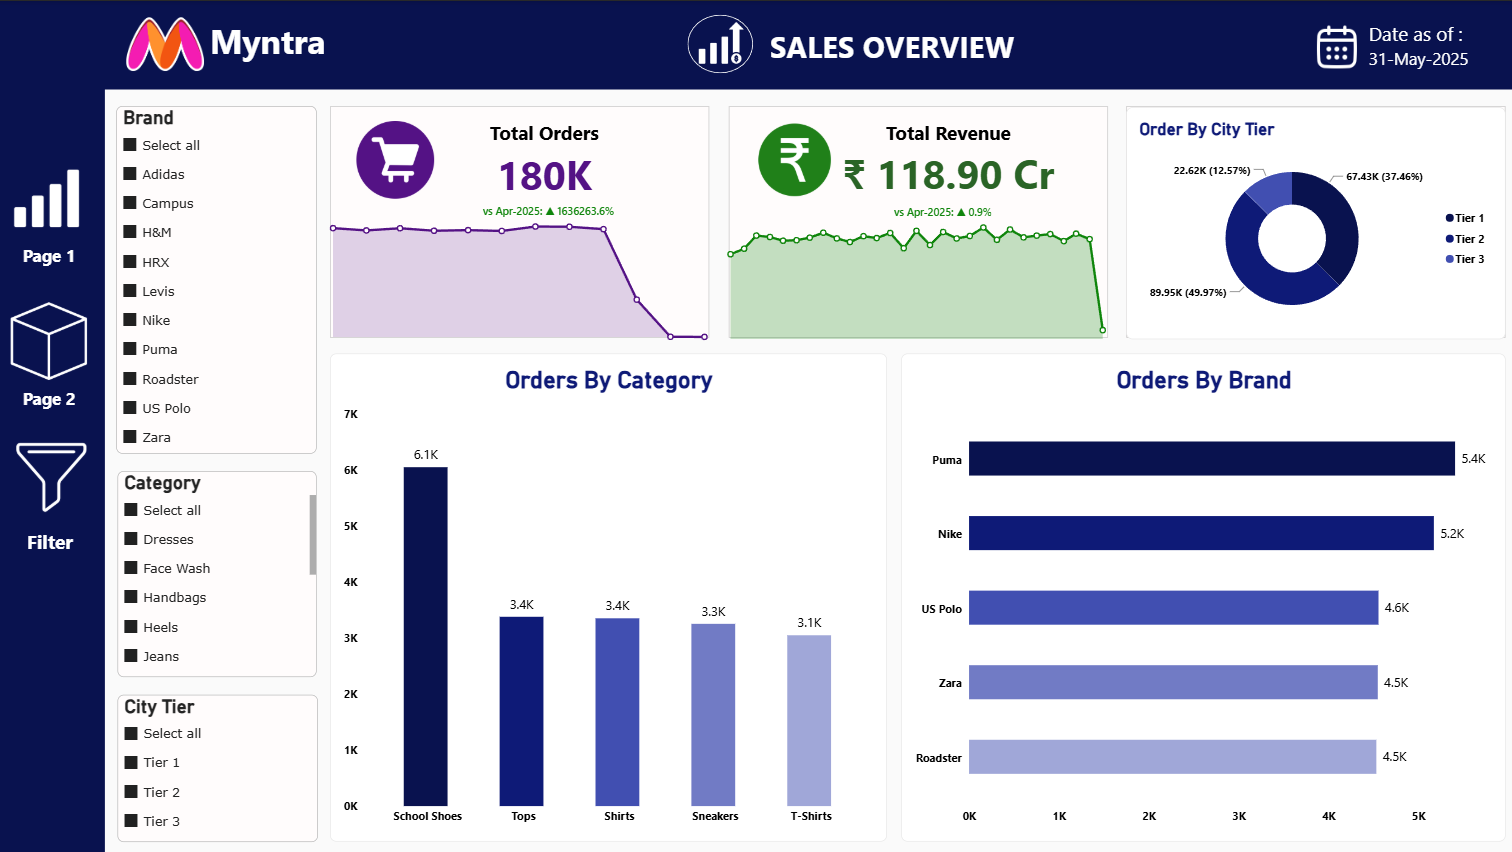

The dashboard page shown, as its layout file describes it:
{"tool":"powerbi","page":{"name":"Page 1","canvas":[1920,1080],"ordinal":0},"visuals":[{"type":"shape","box":[0,0,1920,112],"z":0},{"type":"image","box":[160,18,98.7,74.5],"z":0,"group":"g1"},{"type":"textbox","box":[179.4,21.4,320,61.2],"z":1000,"group":"g1"},{"type":"image","box":[16.7,381.1,86.7,123.3],"z":1000},{"type":"group","id":"g1","title":"Group 1","box":[160,18,338,74],"z":2000},{"type":"shape","box":[0,0,132.7,1080],"z":3000},{"type":"group","id":"g2","title":"Group 2","box":[883.7,21.2,422.3,64.3],"z":3000,"group":"g3"},{"type":"image","box":[883.7,21.2,56.6,64.3],"z":3000,"group":"g2"},{"type":"group","id":"g3","title":"Group 3","box":[870,18,436,74],"z":4000},{"type":"shape","box":[870,18,83,74],"z":4000,"group":"g3"},{"type":"textbox","box":[974,32.6,332,51.5],"z":4000,"group":"g2"},{"type":"slicer","fields":{"Values":["myntra_web_catalog.Brand_Name"]},"box":[146.7,133.3,253.3,440],"z":5000},{"type":"image","box":[1659.1,21.8,65,75],"z":6000,"group":"g5"},{"type":"slicer","fields":{"Values":["myntra_festive_orders.City_Tier"]},"box":[148.3,878.3,253.3,186.7],"z":6000},{"type":"slicer","fields":{"Values":["myntra_festive_orders.Category"]},"box":[148.2,595.5,251.8,260.9],"z":7000},{"type":"image","box":[16.2,187.8,86.7,123.3],"z":8000,"group":"g4"},{"type":"image","box":[13.3,381.7,98.3,98.3],"z":8000},{"type":"image","box":[16.8,557.9,95.2,88.7],"z":9000},{"type":"pageNavigator","box":[12.5,300.4,99.6,222.9],"z":10000,"group":"g4"},{"type":"textbox","box":[14.5,668.2,98,50],"z":10000},{"type":"shape","box":[1425,133.3,480,293.3],"z":11000},{"type":"shape","box":[921.7,133.3,480,293.3],"z":12000},{"type":"shape","box":[418.3,133.3,480,293.3],"z":13000},{"type":"cardVisual","fields":{"Data":["myntra_orders_master.Total Orders KPI"]},"box":[565.7,122.9,245,156.7],"z":14000},{"type":"textbox","box":[1731.4,24.2,188,80.2],"z":14001,"group":"g6"},{"type":"image","box":[435,151.7,130,98.3],"z":15000},{"type":"areaChart","fields":{"Category":["myntra_festive_orders.Order_Date.Variation.Date Hierarchy.Year","myntra_festive_orders.Order_Date.Variation.Date Hierarchy.Quarter"],"Y":["CountNonNull(myntra_orders_master.Order_ID)"]},"box":[395.5,258.5,522,188],"z":16000},{"type":"cardVisual","fields":{"Data":["myntra_festive_orders.Orders Growth Label"]},"box":[594.3,220,275,90],"z":17000},{"type":"image","box":[941.4,151.4,128.6,98.6],"z":18000},{"type":"cardVisual","fields":{"Data":["myntra_festive_orders.Total Revenue Display"]},"box":[960,74.3,480,255.7],"z":19000},{"type":"cardVisual","fields":{"Data":["myntra_festive_orders.Revenue Growth Label"]},"box":[1115.7,241.4,191.4,48.6],"z":20000},{"type":"areaChart","fields":{"Category":["myntra_festive_orders.Delivered_Date.Variation.Date Hierarchy.Year","myntra_festive_orders.Delivered_Date.Variation.Date Hierarchy.Month"],"Y":["Sum(myntra_festive_orders.Net_Revenue)"]},"box":[898.5,240,523,203],"z":21000},{"type":"donutChart","title":"Order By City Tier","fields":{"Series":["myntra_orders_master.City_Tier"],"Y":["CountNonNull(myntra_orders_master.Order_ID)"]},"box":[1425,133.8,480,293.8],"z":22000},{"type":"columnChart","title":"Orders By Category","fields":{"Category":["myntra_festive_orders.Category"],"Y":["CountNonNull(myntra_festive_orders.Order_ID)"]},"box":[418.3,446.7,705,617.5],"z":23000},{"type":"barChart","title":"Orders By Brand","fields":{"Category":["myntra_festive_orders.Brand_Name"],"Y":["CountNonNull(myntra_festive_orders.Order_ID)"]},"box":[1140,446.7,765,617.5],"z":24000},{"type":"group","id":"g4","title":"Group 4","box":[12.5,187.8,99.6,335.5],"z":25000},{"type":"group","id":"g5","title":"Group 5","box":[1659.1,21.8,260.3,82.6],"z":26000},{"type":"group","id":"g6","title":"Group 4","box":[1731.4,24.2,188,80.2],"z":26001,"group":"g5"}]}

Visuals, with their boxes in screenshot pixels (x1, y1, x2, y2), scaled from the page's 1920x1080 canvas onto the 1512x852 screenshot:
shape: region(0, 0, 1511, 88)
image: region(126, 14, 204, 73)
textbox: region(141, 17, 393, 65)
image: region(13, 301, 81, 398)
"Group 1" group: region(126, 14, 392, 73)
shape: region(0, 0, 105, 851)
"Group 2" group: region(696, 17, 1028, 67)
image: region(696, 17, 740, 67)
"Group 3" group: region(685, 14, 1028, 73)
shape: region(685, 14, 750, 73)
textbox: region(767, 26, 1028, 66)
slicer - myntra_web_catalog.Brand_Name: region(116, 105, 315, 452)
image: region(1307, 17, 1358, 76)
slicer - myntra_festive_orders.City_Tier: region(117, 693, 316, 840)
slicer - myntra_festive_orders.Category: region(117, 470, 315, 676)
image: region(13, 148, 81, 245)
image: region(10, 301, 88, 379)
image: region(13, 440, 88, 510)
pageNavigator: region(10, 237, 88, 413)
textbox: region(11, 527, 89, 567)
shape: region(1122, 105, 1500, 337)
shape: region(726, 105, 1104, 337)
shape: region(329, 105, 707, 337)
cardVisual - myntra_orders_master.Total Orders KPI: region(445, 97, 638, 221)
textbox: region(1363, 19, 1511, 82)
image: region(343, 120, 445, 197)
areaChart - myntra_festive_orders.Order_Date.Variation.Date Hierarchy.Year x myntra_festive_orders.Order_Date.Variation.Date Hierarchy.Quarter: region(311, 204, 723, 352)
cardVisual - myntra_festive_orders.Orders Growth Label: region(468, 174, 685, 245)
image: region(741, 119, 843, 197)
cardVisual - myntra_festive_orders.Total Revenue Display: region(756, 59, 1134, 260)
cardVisual - myntra_festive_orders.Revenue Growth Label: region(879, 190, 1029, 229)
areaChart - myntra_festive_orders.Delivered_Date.Variation.Date Hierarchy.Year x myntra_festive_orders.Delivered_Date.Variation.Date Hierarchy.Month: region(708, 189, 1119, 349)
"Order By City Tier" donutChart: region(1122, 106, 1500, 337)
"Orders By Category" columnChart: region(329, 352, 885, 840)
"Orders By Brand" barChart: region(898, 352, 1500, 840)
"Group 4" group: region(10, 148, 88, 413)
"Group 5" group: region(1307, 17, 1511, 82)
"Group 4" group: region(1363, 19, 1511, 82)
